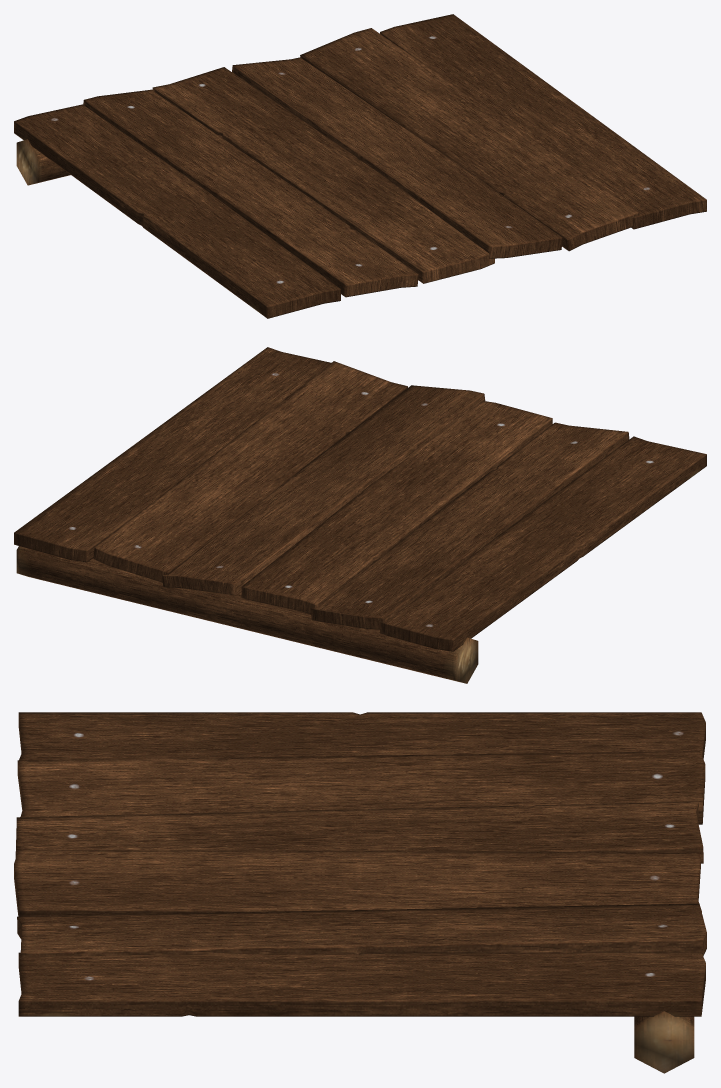
File: Planks.glb
The picture shows the model from 3 angles, top to bottom: view 1: azimuth 30°, elevation 25°; view 2: azimuth 150°, elevation 25°; view 3: azimuth 270°, elevation 25°; orthographic projection. The views are drawn at different scales.
Visible parts, largest first — view 1: Plane.002, Plane.003; view 2: Plane.002, Plane.003; view 3: Plane.002, Plane.003.
Part boxes in pixels (<box>): Plane.002: <box>14,14,706,318</box>; Plane.003: <box>16,139,70,185</box>; Plane.002: <box>14,347,706,651</box>; Plane.003: <box>16,546,478,683</box>; Plane.002: <box>14,712,706,1016</box>; Plane.003: <box>634,1011,694,1073</box>.
Size of the model in its own units: 2 by 0.2624 by 2.03.
Materials: 1 (1 with a texture image).
